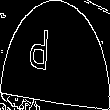P_S: (44, 28, 66, 82)
